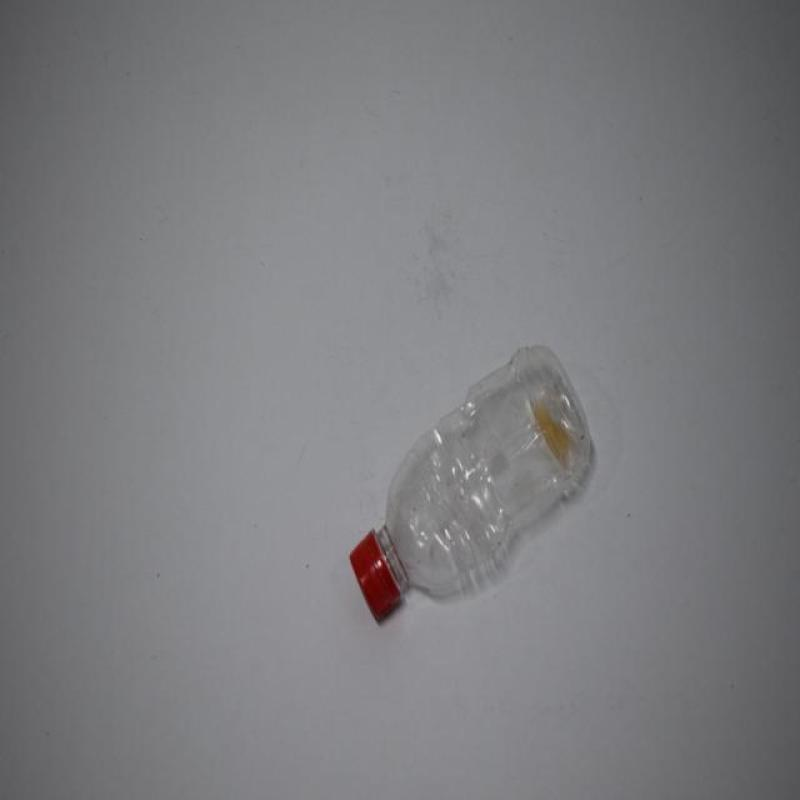botella: (350, 342, 599, 631)
